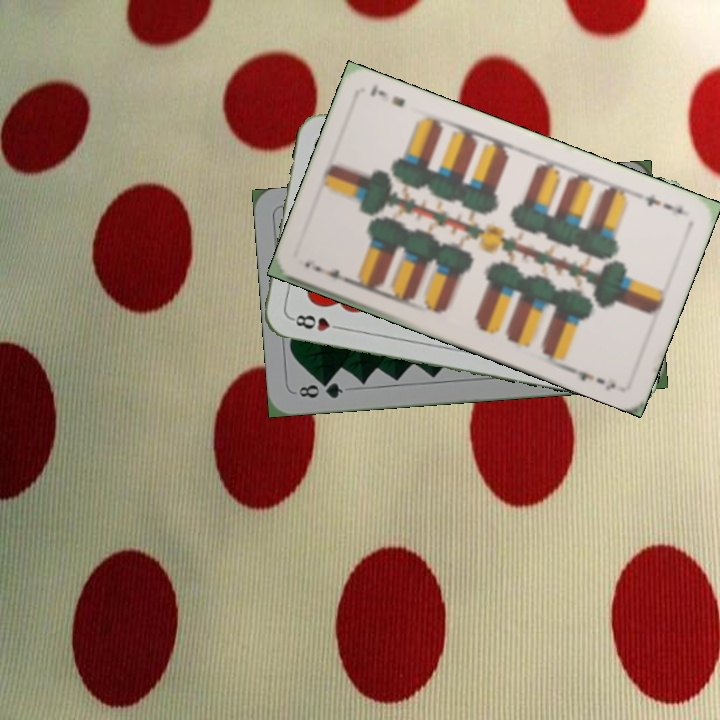E7: (641, 189, 686, 218), (308, 261, 355, 287)
G8: (295, 377, 346, 401)
H8: (287, 310, 346, 334)
